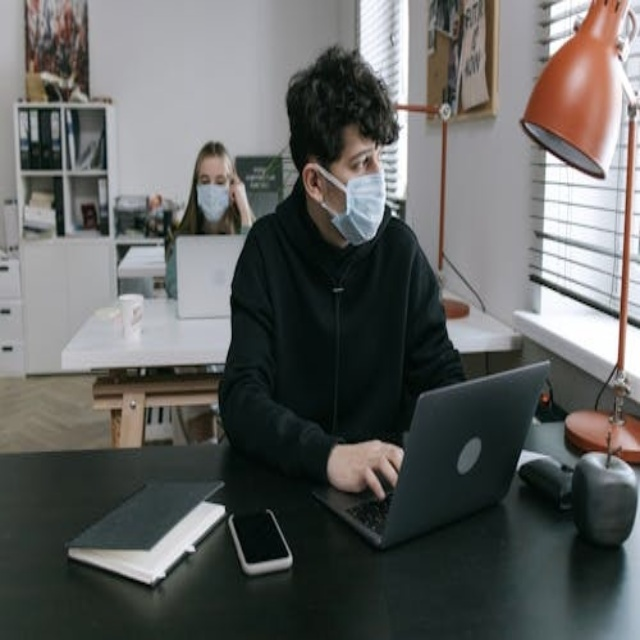Mascara: (315, 159, 386, 243), (196, 180, 232, 223)
Sin_gafas: (343, 144, 387, 173), (196, 163, 228, 188)
Sin_guantes: (337, 429, 403, 492)
